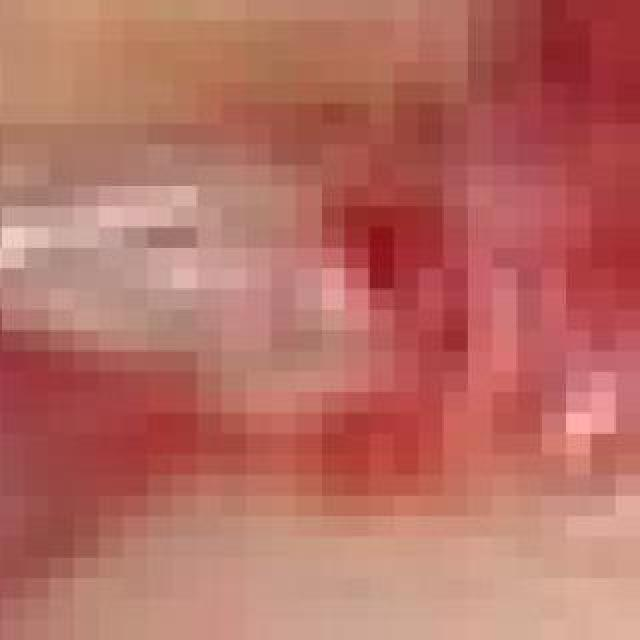cavities: (0, 0, 590, 598)
